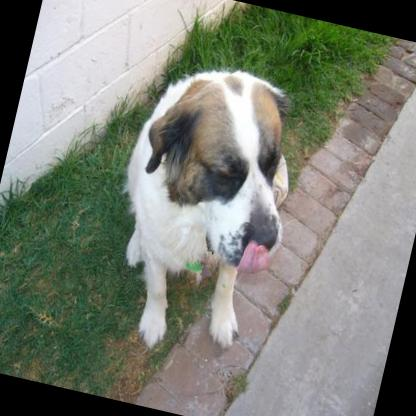Saint_Bernard: (84, 44, 318, 372)
